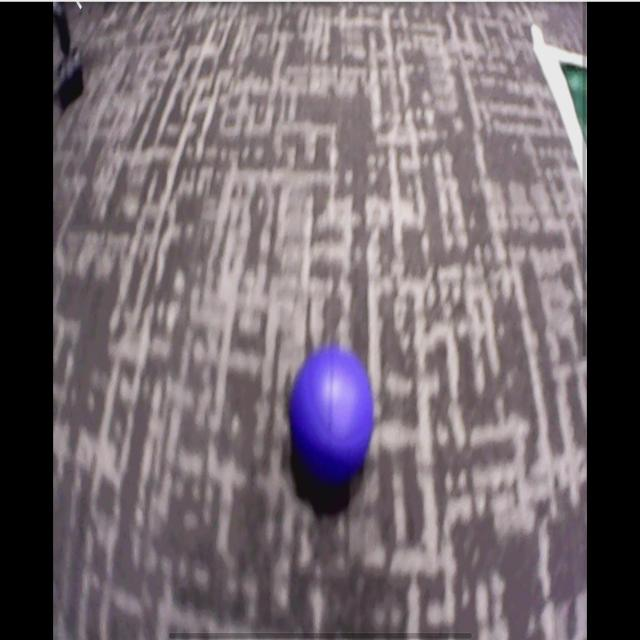ball: (291, 350, 376, 481)
